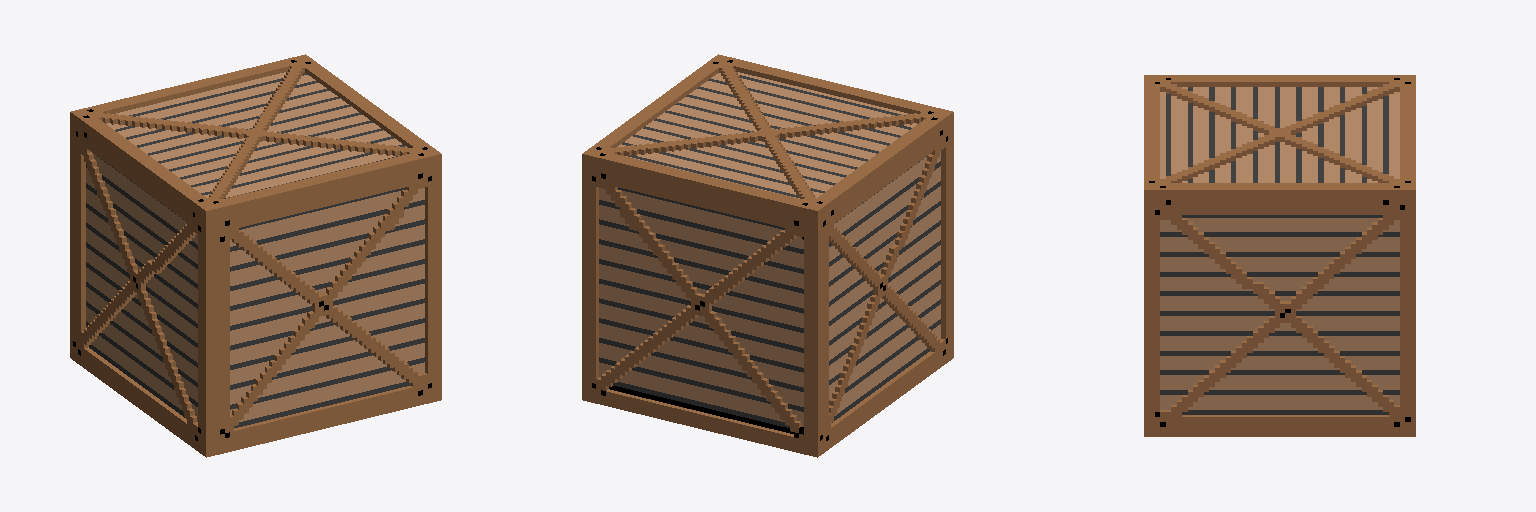
The picture shows the model from 3 angles: view 1: azimuth 30°, elevation 25°; view 2: azimuth 150°, elevation 25°; view 3: azimuth 270°, elevation 25°; orthographic projection.
Parts seen in each view (by area): view 1: object 1; view 2: object 1; view 3: object 1.
Part boxes in pixels (x1,y1,x2,y2): object 1: (70,54,441,457); object 1: (582,54,953,457); object 1: (1144,75,1415,436).
Bounding box in the file's own units: 5 × 5 × 5.
Materials: 1 (1 with a texture image).